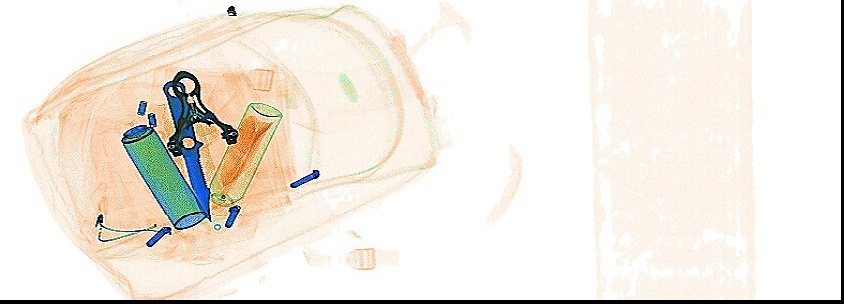knife: (161, 76, 212, 223)
pressure: (117, 109, 206, 228), (202, 99, 281, 218)
slingshot: (165, 68, 238, 154)
